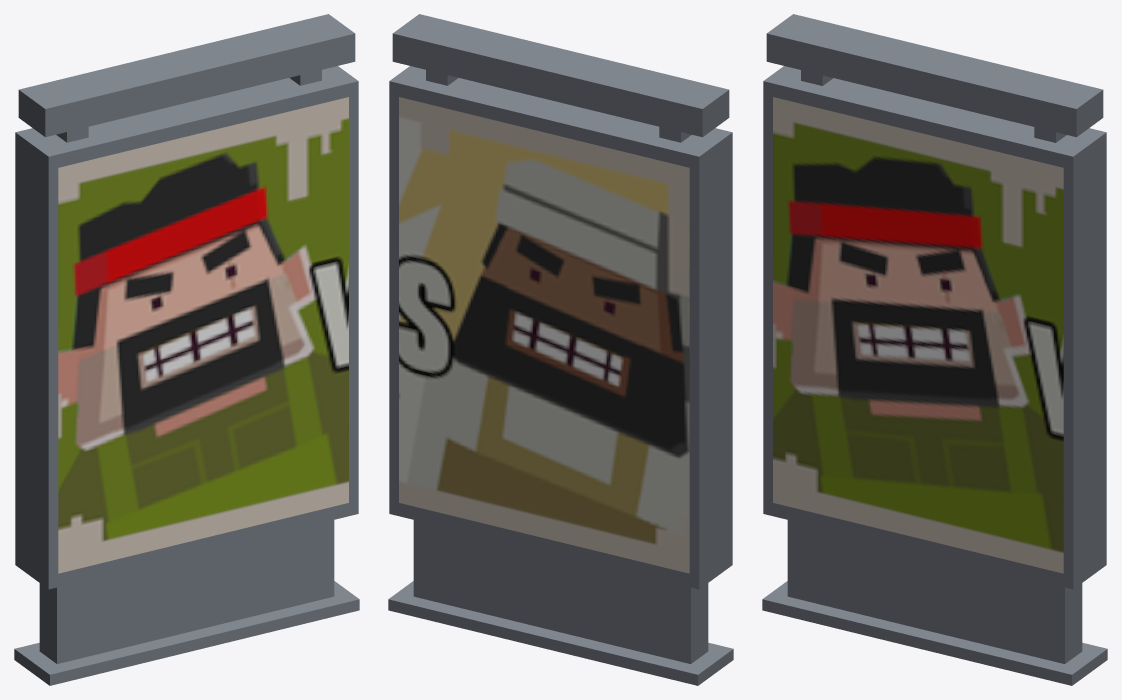
The model's file is SM_Billboard_Panel_04.fbx.
3 views of the same model, side by side, from view 1: azimuth 30°, elevation 25°; view 2: azimuth 150°, elevation 25°; view 3: azimuth 330°, elevation 25° (orthographic).
Visible parts, largest first — view 1: SM_Billboard_Panel_04; view 2: SM_Billboard_Panel_04; view 3: SM_Billboard_Panel_04.
Part boxes in pixels (x1=…): SM_Billboard_Panel_04: x1=14, y1=14, x2=359, y2=685; SM_Billboard_Panel_04: x1=388, y1=14, x2=733, y2=685; SM_Billboard_Panel_04: x1=762, y1=14, x2=1107, y2=685.
Bounding box in the file's own units: 2.2 × 3.89 × 0.4375.
